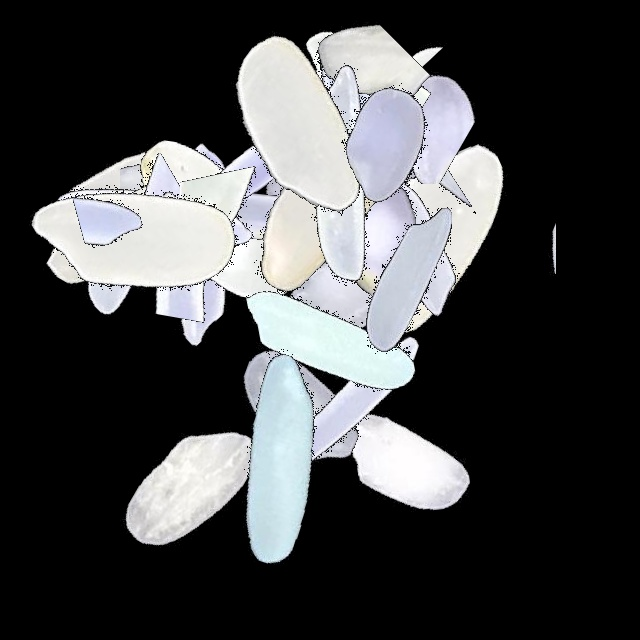Broken: (189, 115, 439, 283), (293, 0, 458, 250), (216, 1, 466, 163), (169, 49, 326, 299), (270, 33, 520, 184), (120, 57, 269, 307), (111, 119, 259, 369), (272, 0, 418, 250), (269, 0, 414, 250), (243, 236, 493, 378), (220, 19, 470, 161), (0, 153, 250, 277), (104, 131, 225, 381), (208, 90, 328, 340), (318, 15, 437, 265), (297, 39, 407, 289), (280, 150, 530, 259), (80, 124, 179, 374), (180, 97, 279, 347), (458, 136, 556, 386), (73, 67, 169, 317), (330, 0, 422, 250), (310, 63, 396, 313), (225, 38, 475, 119)
Full: (72, 119, 322, 369), (254, 126, 504, 376), (238, 148, 488, 398), (312, 114, 562, 364), (0, 90, 250, 340), (182, 37, 432, 287), (288, 120, 538, 370), (95, 95, 345, 345), (0, 119, 250, 369), (151, 92, 401, 342), (282, 337, 532, 587), (226, 173, 476, 423), (176, 284, 426, 534), (218, 281, 468, 531), (28, 96, 278, 346), (254, 115, 504, 365), (205, 216, 455, 466), (197, 74, 447, 324), (229, 1, 479, 251), (219, 51, 469, 301), (176, 0, 426, 250), (261, 17, 511, 267), (64, 360, 314, 610), (285, 153, 535, 403), (11, 110, 261, 360), (154, 333, 404, 583)
